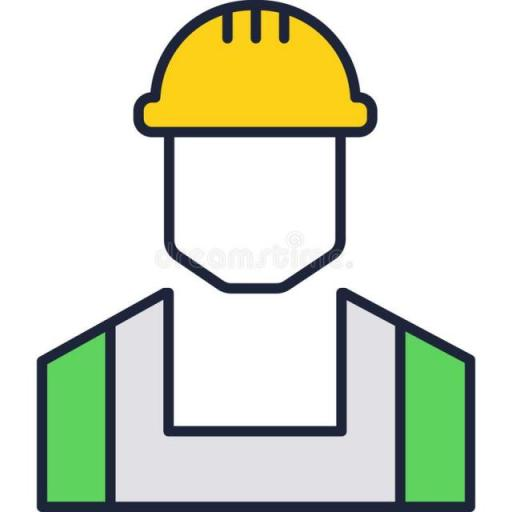helmet: (136, 4, 380, 136)
vest: (27, 304, 512, 512)
